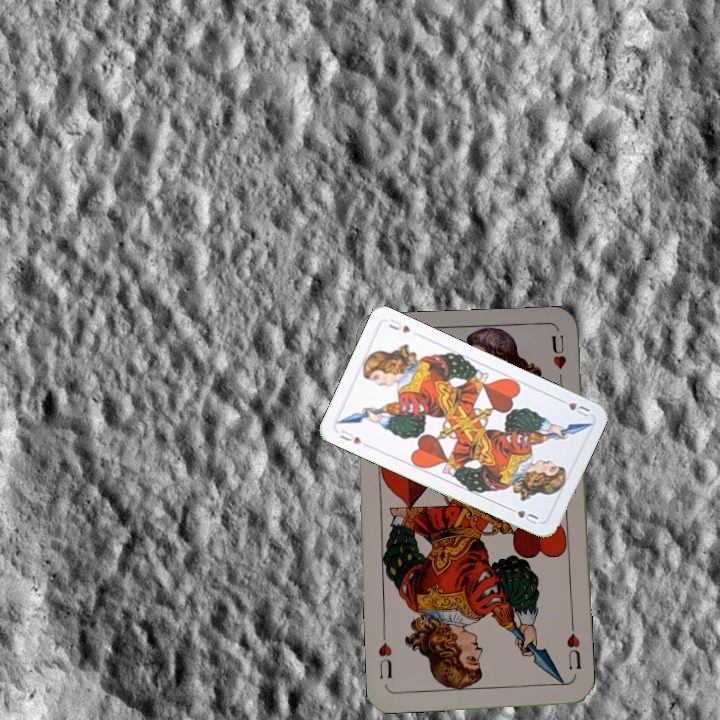HU: (562, 621, 584, 672), (555, 395, 593, 420), (336, 426, 364, 447)
